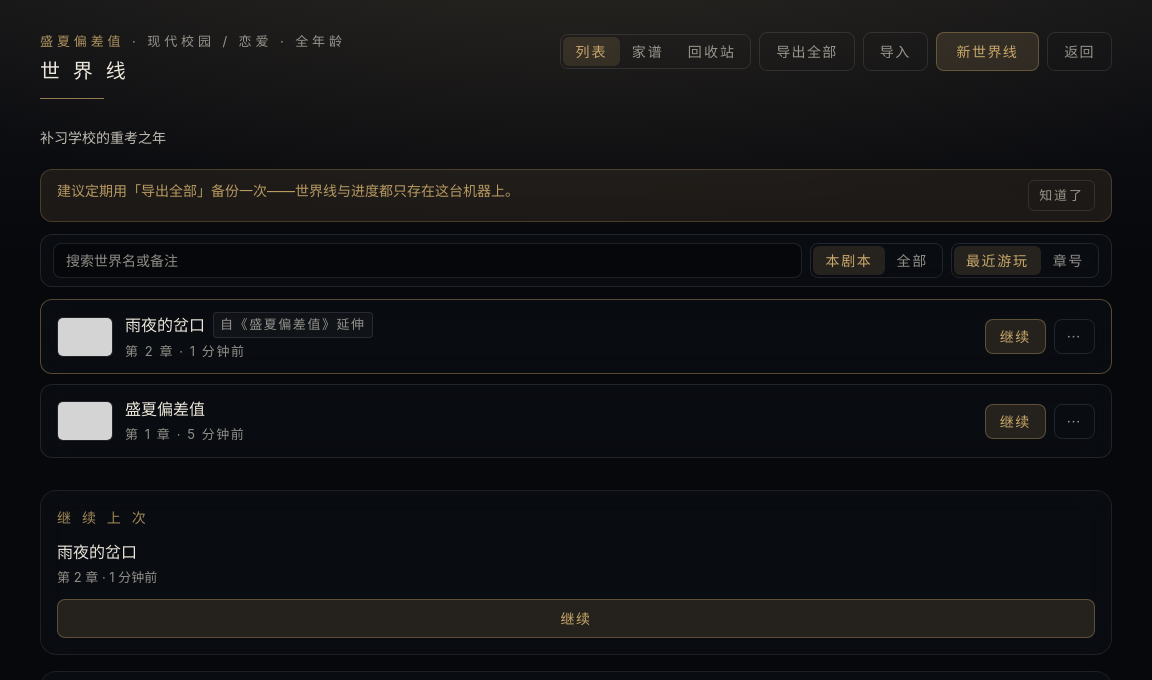
Scenario: WorldsScreen：改名 / 导出 / 导入（v1.6） › 行内改名：编辑打开即聚焦显示名输入框；保存把 label/note 提交给 update 并重取清单回显
The width and height of the screenshot is (1152, 680).
Press the mouse on the button with test id "world-menu-campus-summer-1" at {"x": 1074, "y": 421}, box [1054,404,1095,439]
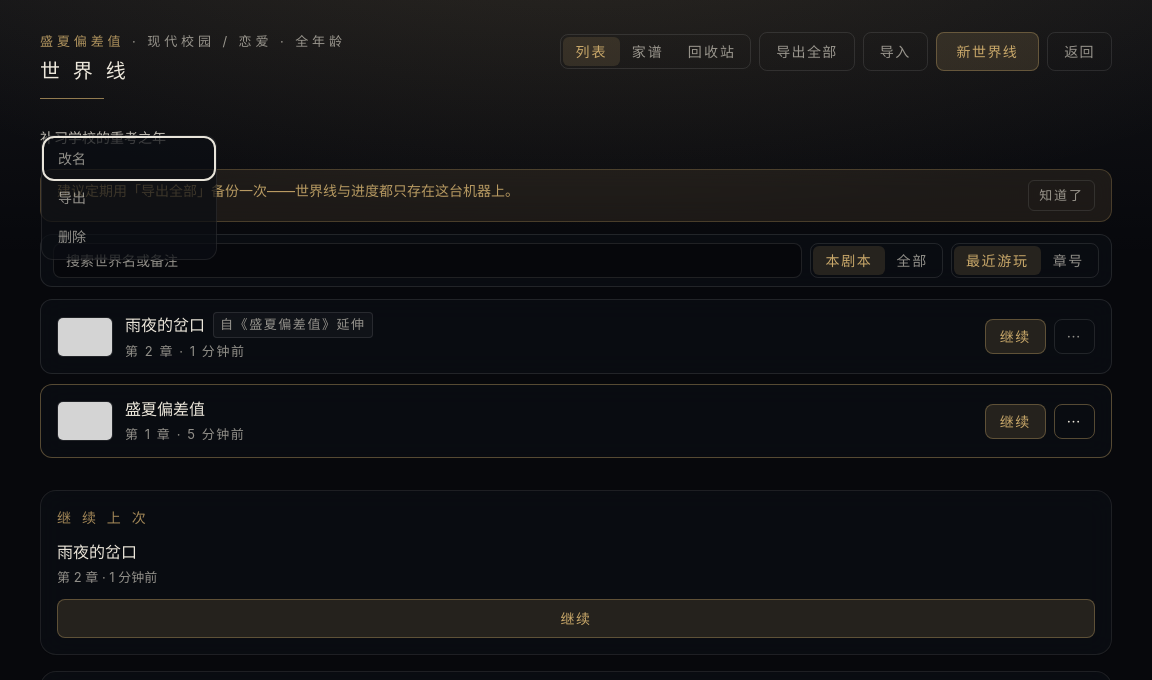
Click the menu item with test id "world-edit-campus-summer-1" at {"x": 129, "y": 159}, box [46,140,212,177]
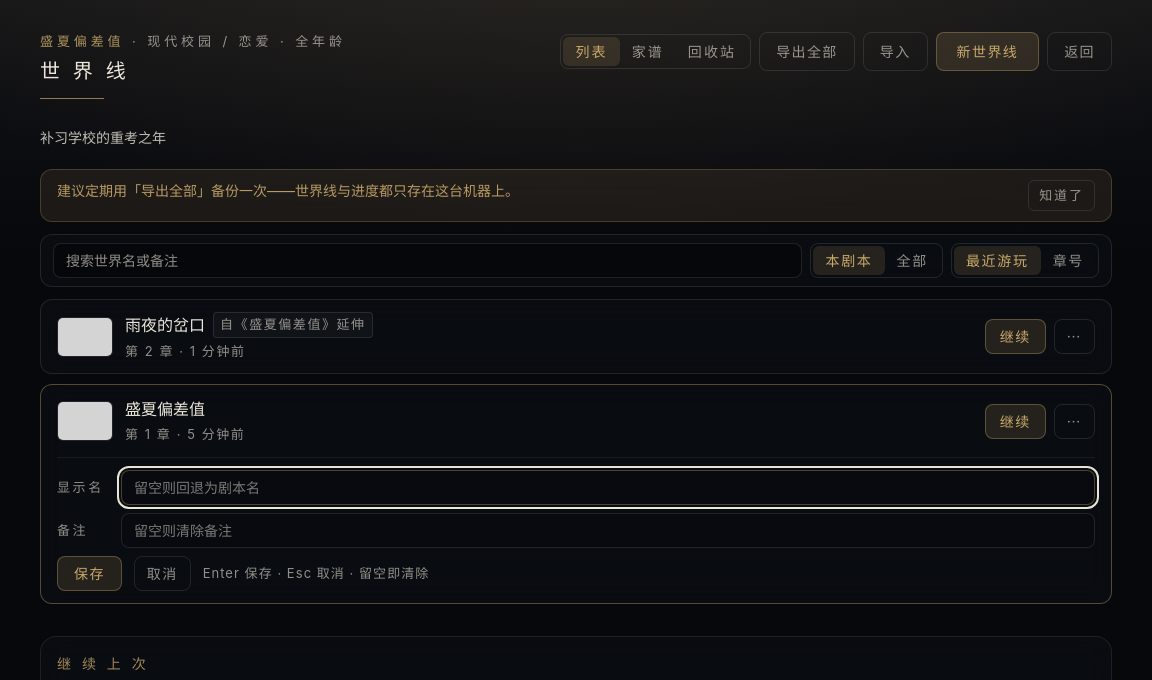
Now the element with test id "world-editor-campus-summer-1" is shown, box [57,457,1095,591]
Now the menu with test id "world-menu-popup-campus-summer-1" is gone
Now the field with test id "world-edit-label-campus-summer-1" is empty
Type " 天台上的雨 " into the field named "显示名（盛夏偏差值）" at {"x": 608, "y": 487}, box [121,470,1095,505]
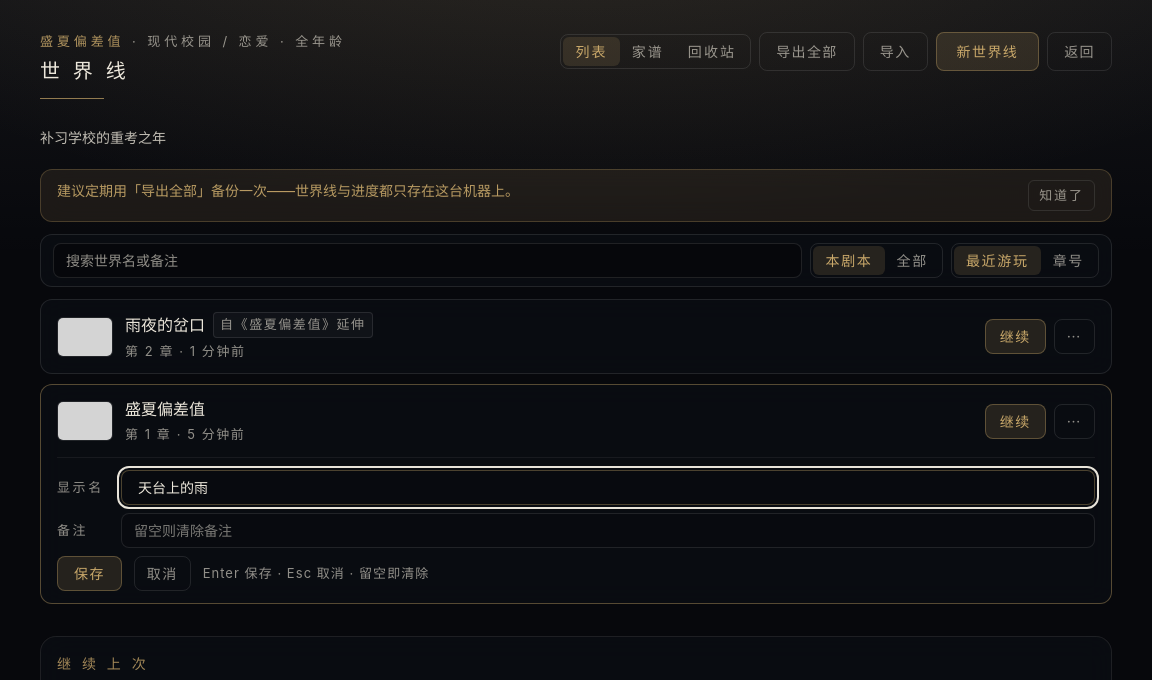
Type "第一周目" into the field with test id "world-edit-note-campus-summer-1" at {"x": 608, "y": 530}, box [121,513,1095,548]
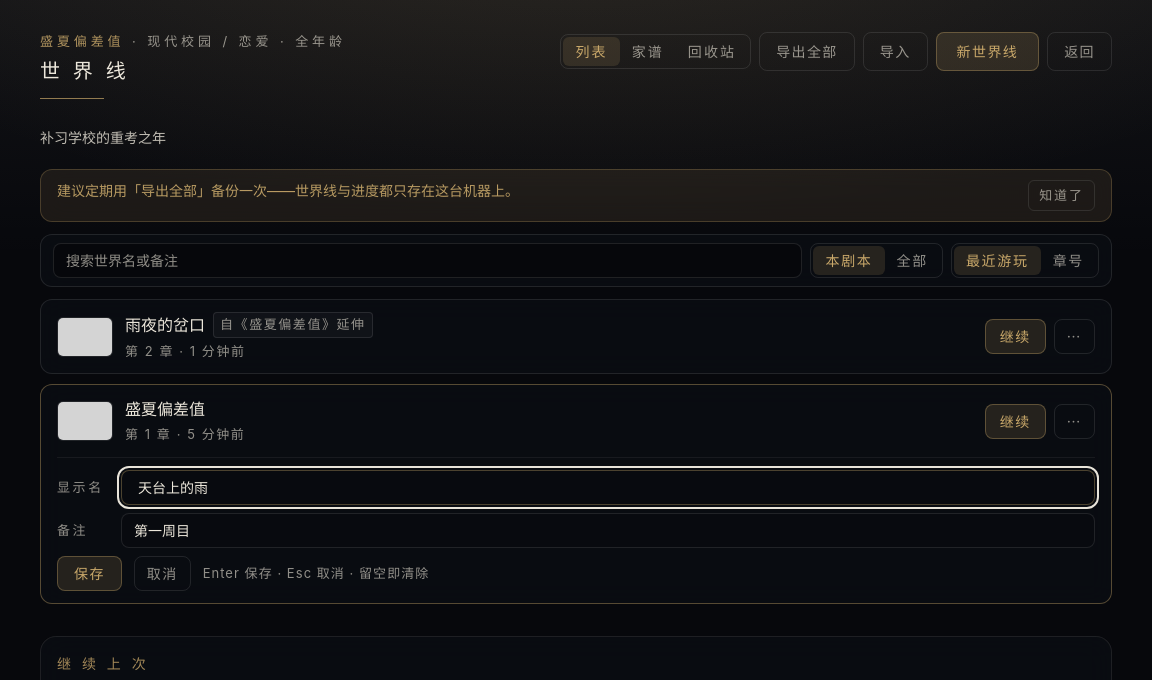
Click the button with test id "world-edit-save-campus-summer-1" at {"x": 89, "y": 573}, box [57,556,122,591]
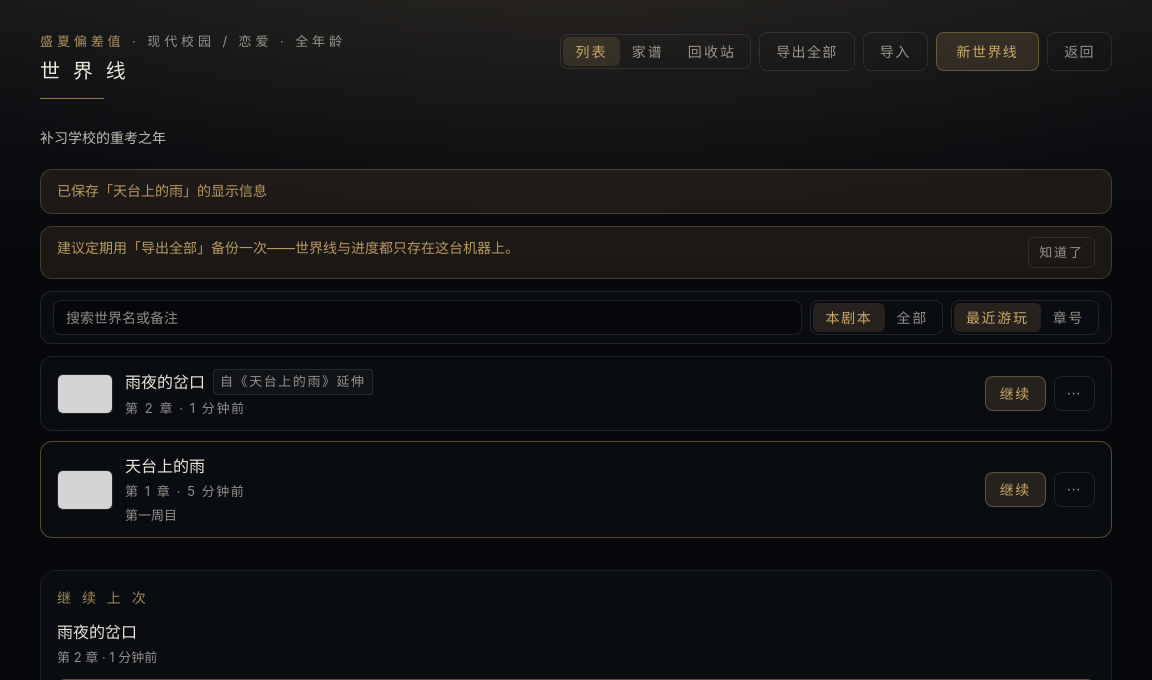
Now the element with test id "world-editor-campus-summer-1" is gone
Now the text "天台上的雨" is shown, box [125,454,205,478]
Now the message with test id "worlds-notice" shows "已保存", box [57,182,267,199]
